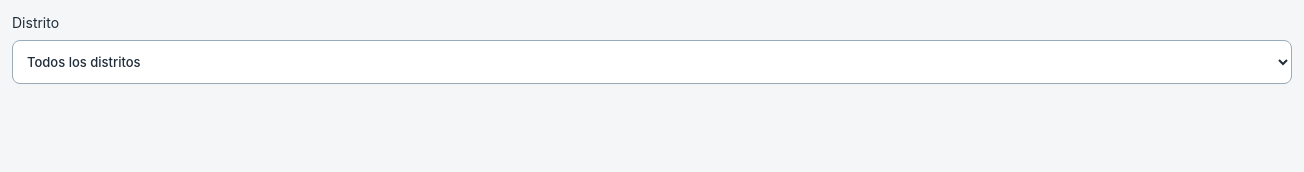
Test: territorial field › retains native selection for short lists
Select "Distrito 1" in the dropdown labelled "Distrito" at (652, 62), box [12,40,1292,84]
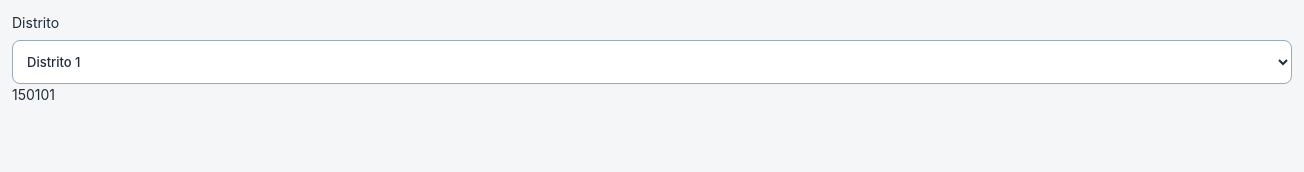
Result: the text named "Código seleccionado" reads "150101" at [12,86,55,103]
